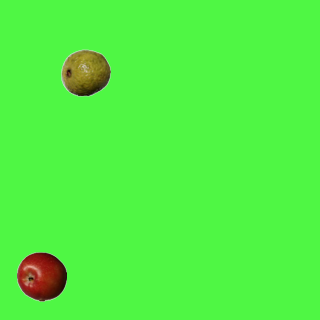Apple Braeburn: (16, 251, 66, 301)
Guava: (60, 47, 110, 97)
